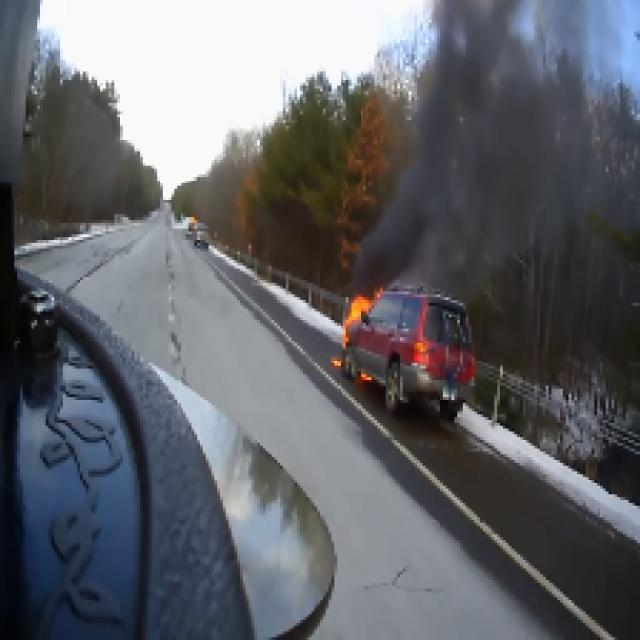Smoke: (216, 7, 636, 425)
